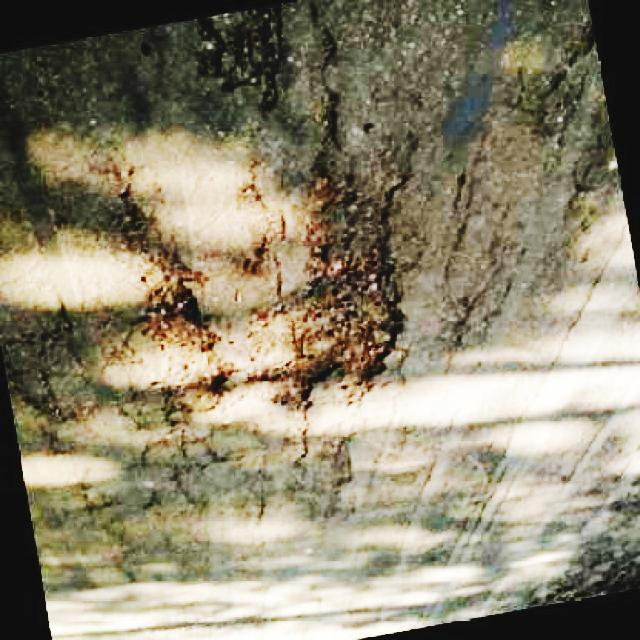pothole: (132, 164, 418, 413), (198, 0, 280, 106)
